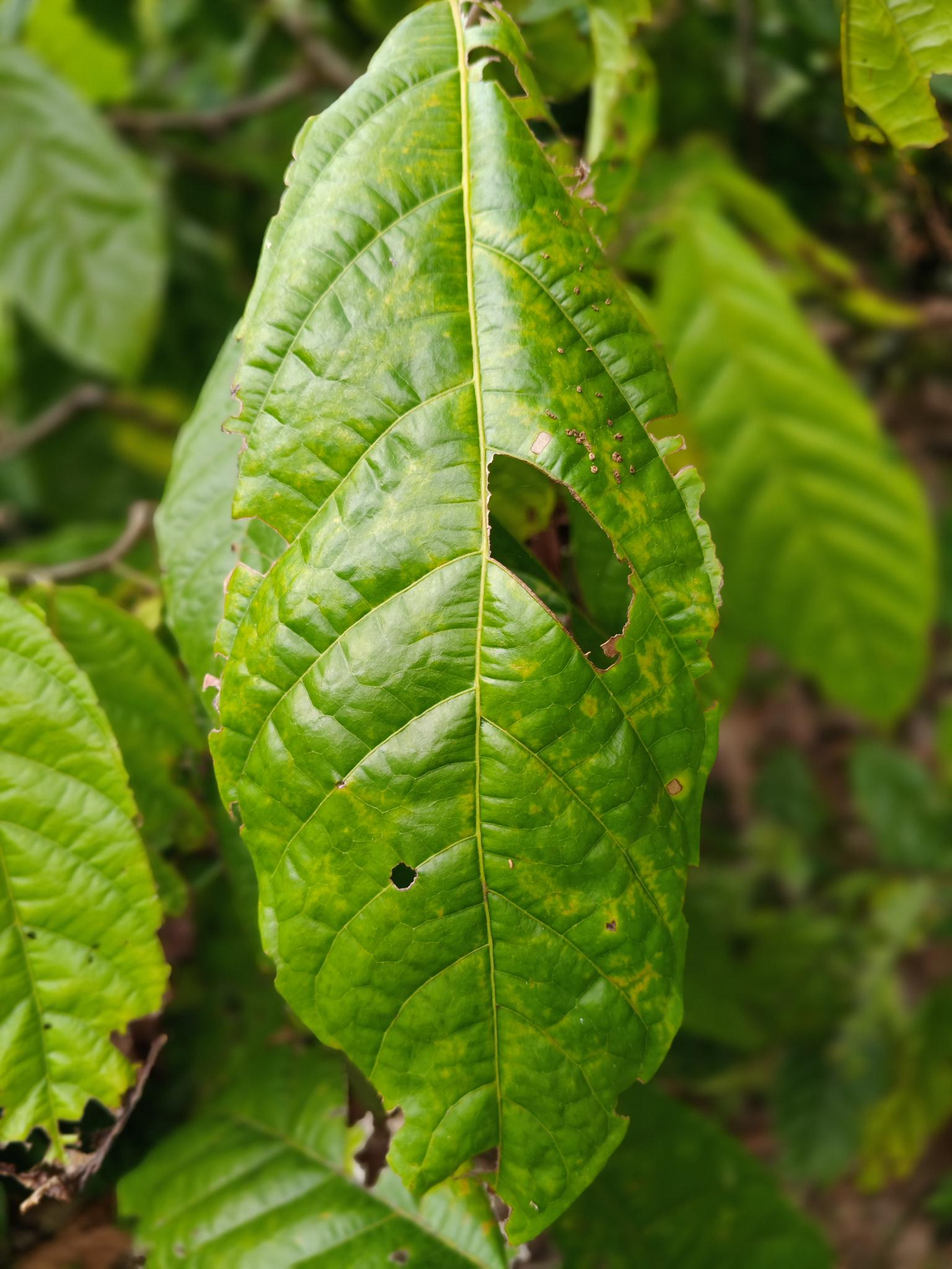Fosforo: (169, 0, 741, 1269)
